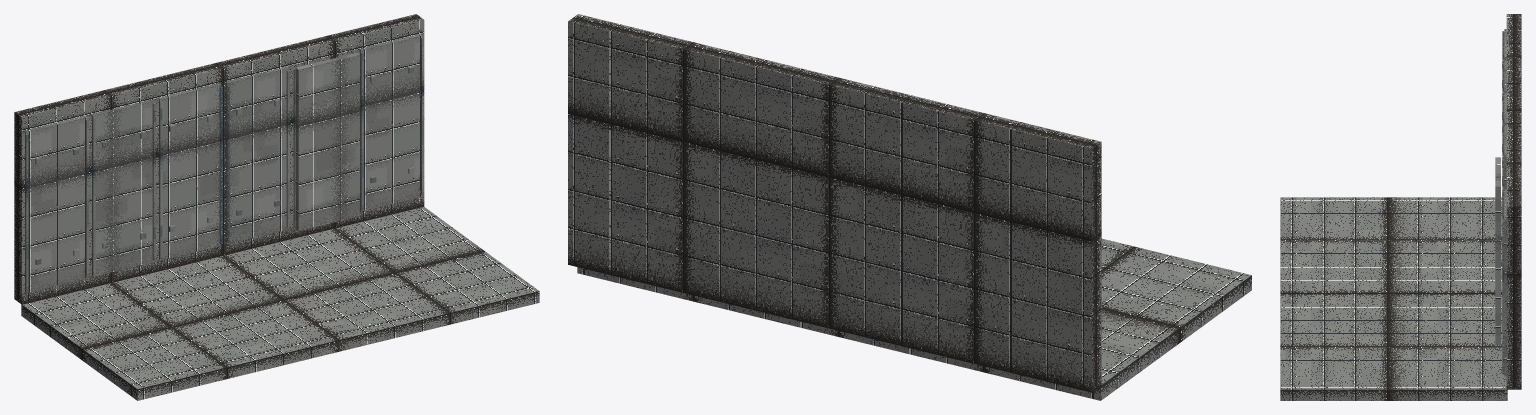
The model's file is secret_displaced_panel.glb.
3 views of the same model, side by side, from view 1: azimuth 30°, elevation 25°; view 2: azimuth 150°, elevation 25°; view 3: azimuth 270°, elevation 25° (orthographic). The views are drawn at different scales.
Visible parts, largest first — view 1: secret_displaced_panel; view 2: secret_displaced_panel; view 3: secret_displaced_panel.
Part boxes in pixels (bbox=[...]): secret_displaced_panel: bbox=[14, 14, 539, 400]; secret_displaced_panel: bbox=[568, 14, 1251, 400]; secret_displaced_panel: bbox=[1280, 14, 1521, 400].
Bounding box in the file's own units: 7.2 × 3.4 × 3.82.
3 materials, 3 textured.
